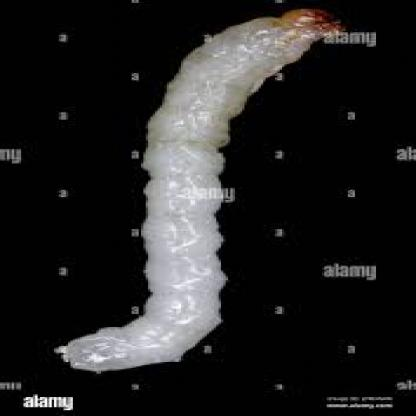sawfly: (58, 8, 340, 375)
